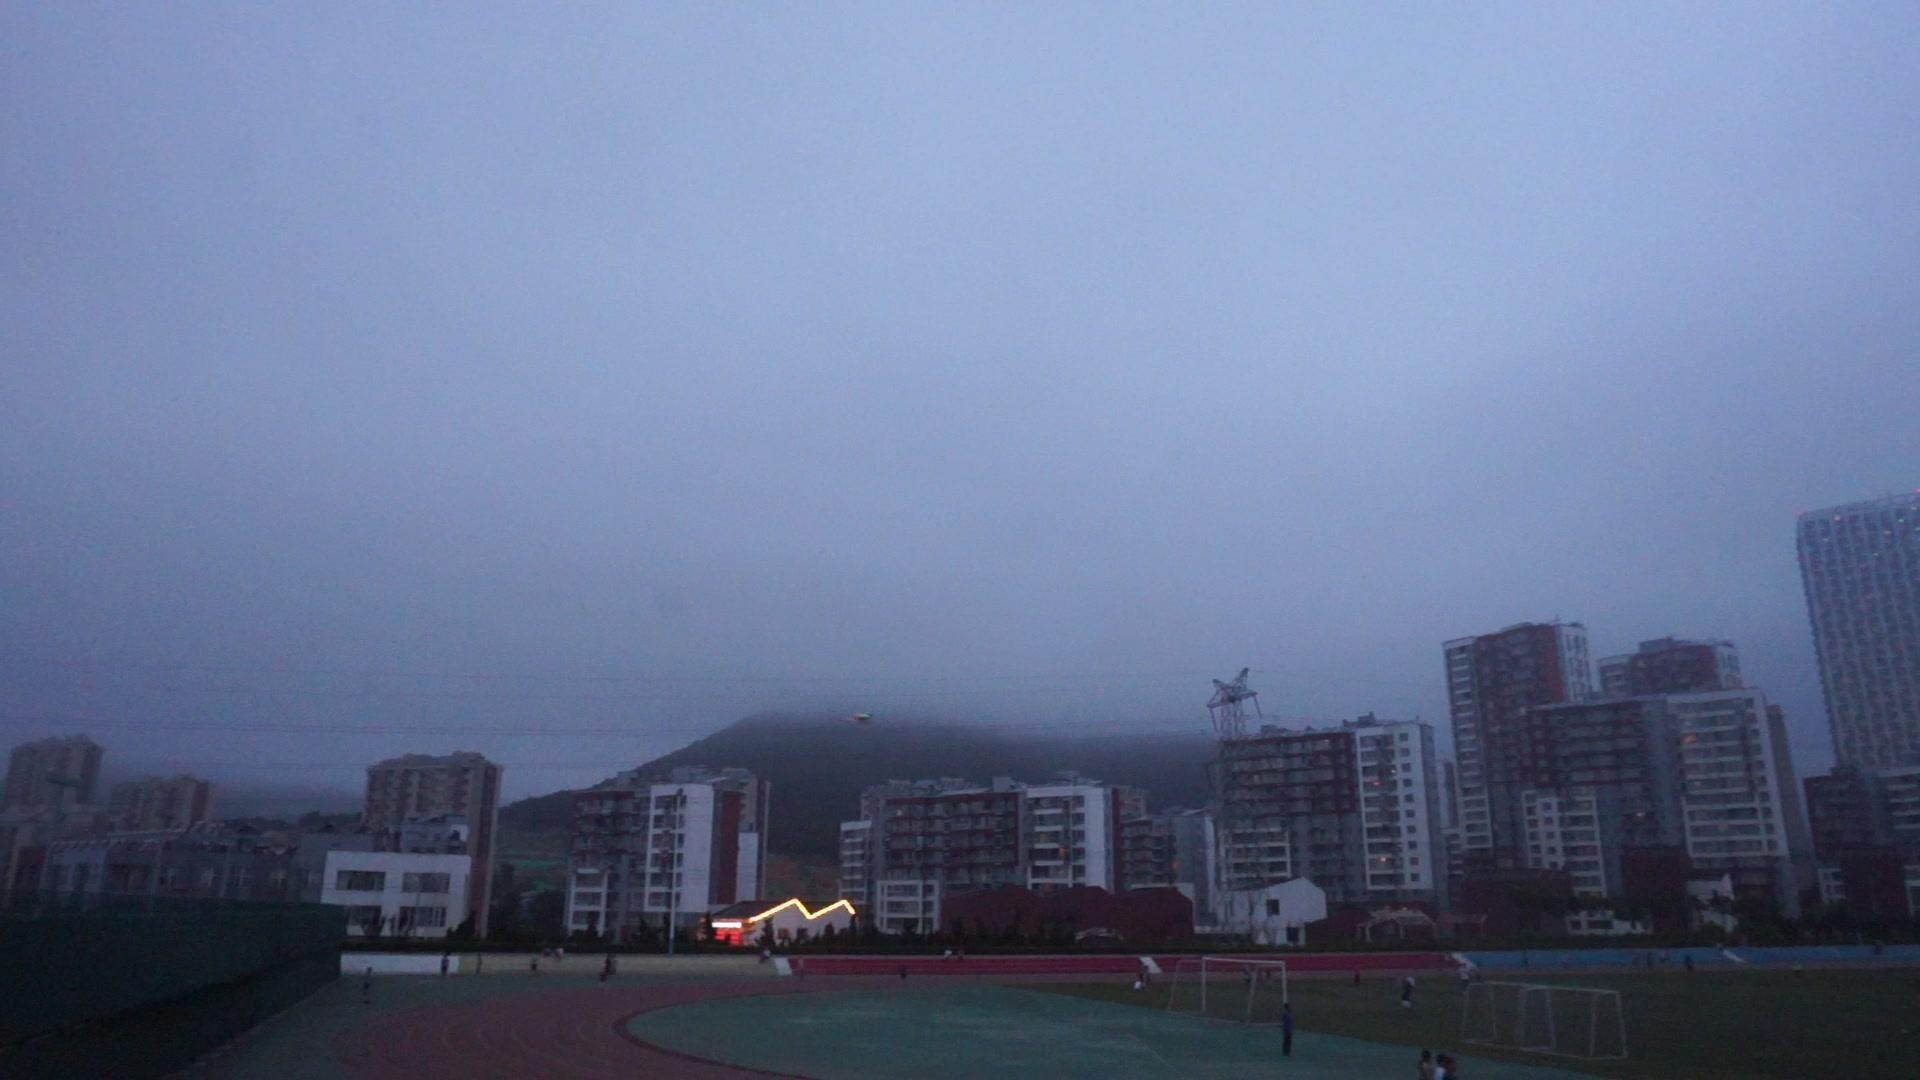UAV: (852, 713, 873, 725)
